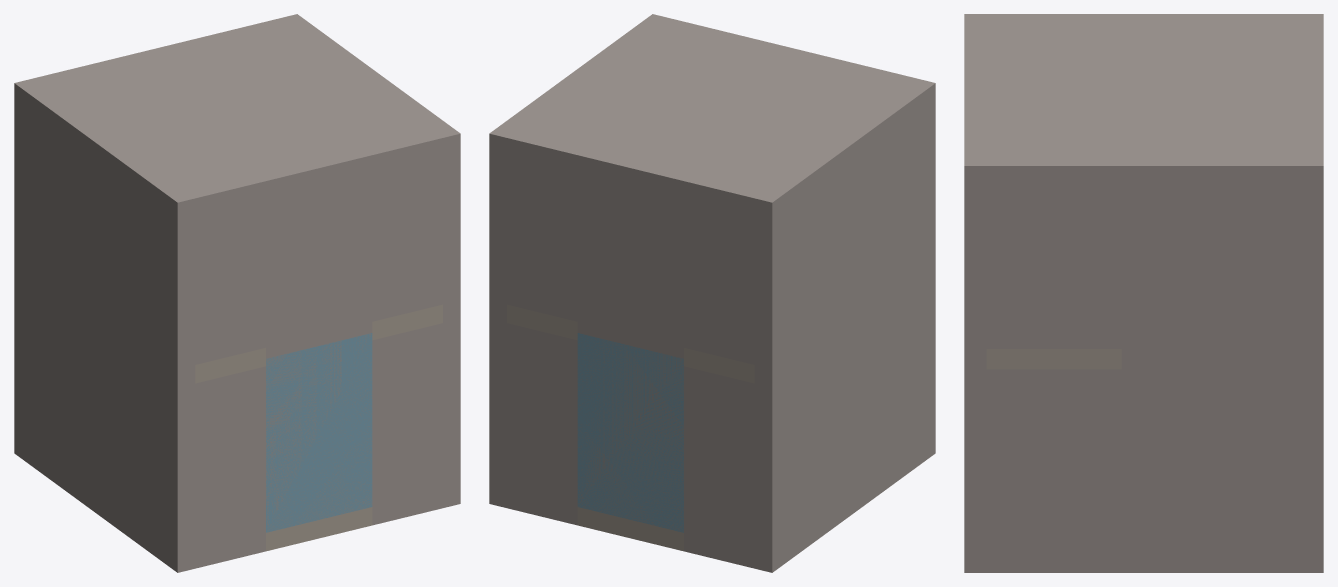
Rendered from creek-mirror.glb.
3 renders of one model, left to right at view 1: azimuth 30°, elevation 25°; view 2: azimuth 150°, elevation 25°; view 3: azimuth 270°, elevation 25°, orthographic. The views are drawn at different scales.
Visible parts, largest first — view 1: rock_19, rock_1, plug_creek_south, rock_12, water_1, plug_creek_south.001, rock_7, rock_8, rock_9, rock_10, rock_17, rock_4 (+5 smaller); view 2: rock_19, rock_1, plug_creek_north, rock_12, water_1, rock_5, rock_6, plug_creek_north.001, rock_16, rock_2, rock_13, cave-floor_1 (+2 smaller); view 3: rock_19, rock_2, rock_13, rock_11, plug_east, rock_18, rock_4, rock_15, cave-floor_7.
Boxes of the visible parts, x1,y1,x2,y2 form: rock_19: [14, 14, 460, 220]; rock_1: [14, 250, 195, 572]; plug_creek_south: [195, 175, 442, 364]; rock_12: [14, 102, 195, 369]; water_1: [266, 333, 372, 532]; plug_creek_south.001: [266, 322, 372, 532]; rock_7: [407, 323, 442, 516]; rock_8: [230, 366, 265, 559]; rock_9: [195, 375, 230, 568]; rock_10: [372, 332, 407, 525]; rock_17: [195, 156, 442, 235]; rock_4: [443, 300, 460, 507]; rock_19: [489, 14, 935, 220]; rock_1: [754, 250, 935, 572]; plug_creek_north: [507, 175, 754, 364]; rock_12: [754, 102, 935, 369]; water_1: [577, 333, 683, 532]; rock_5: [684, 366, 754, 568]; rock_6: [507, 323, 577, 525]; plug_creek_north.001: [577, 322, 683, 531]; rock_16: [507, 156, 754, 235]; rock_2: [489, 300, 506, 507]; rock_13: [489, 152, 506, 304]; cave-floor_1: [577, 507, 683, 551]; rock_19: [964, 14, 1323, 186]; rock_2: [1121, 349, 1323, 572]; rock_13: [1121, 186, 1323, 348]; rock_11: [986, 369, 1121, 572]; plug_east: [986, 227, 1121, 348]; rock_18: [986, 186, 1121, 226]; rock_4: [964, 349, 986, 572]; rock_15: [964, 186, 986, 348]; cave-floor_7: [986, 349, 1121, 369].
Bounding box in the file's own units: 8 × 10 × 8.
